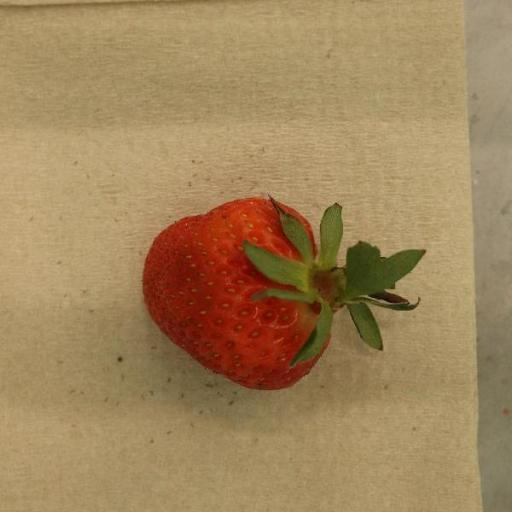Strawberry: (142, 198, 427, 391)
